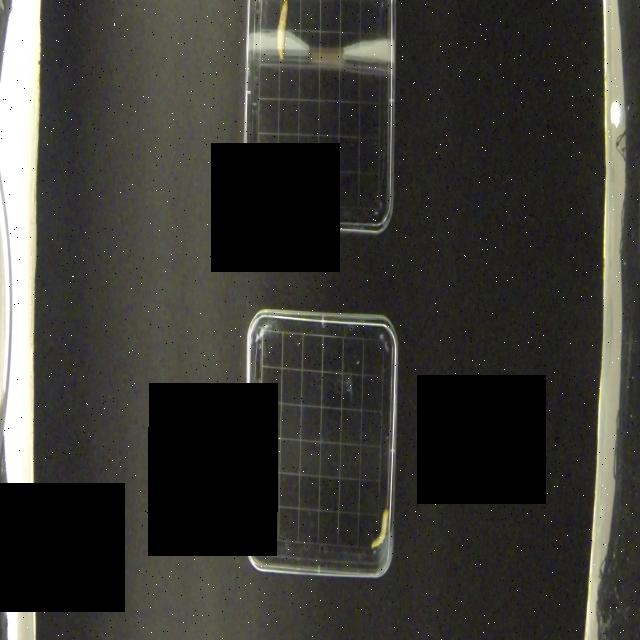larva: (274, 0, 293, 62), (371, 503, 389, 552)
